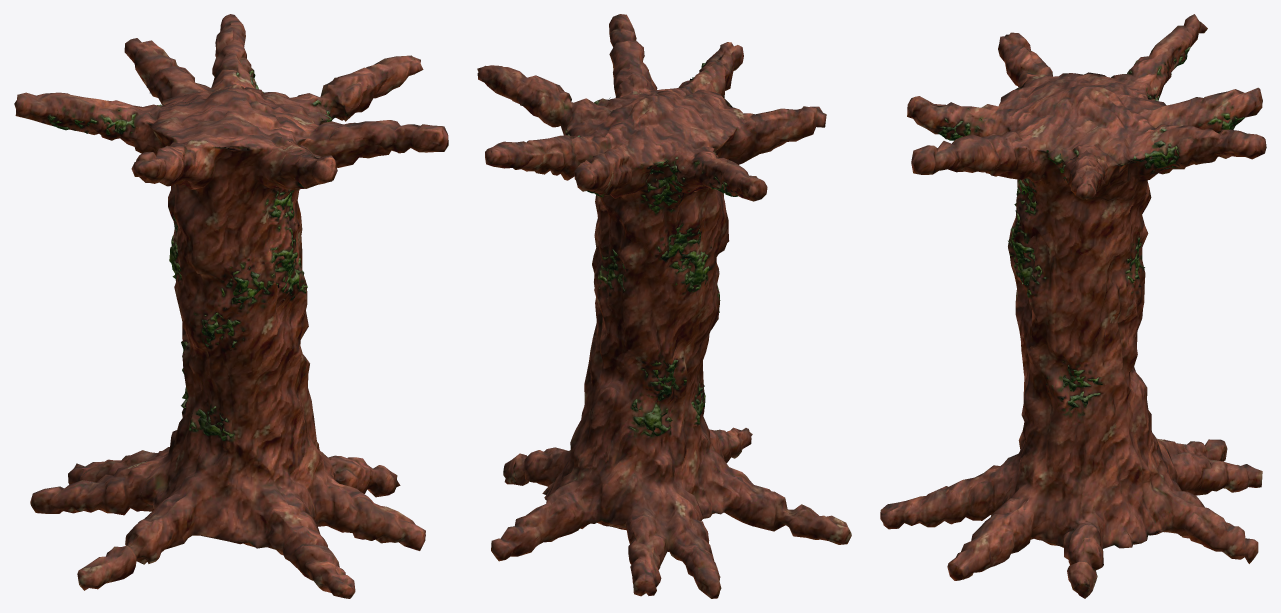
File: rtree_b3.glb
The picture shows the model from 3 angles, left to right: view 1: azimuth 30°, elevation 25°; view 2: azimuth 150°, elevation 25°; view 3: azimuth 270°, elevation 25°; orthographic projection. The views are drawn at different scales.
Parts seen in each view (by area): view 1: bark, moss; view 2: bark, moss; view 3: bark, moss.
Part boxes in pixels (x1,y1,x2,y2): bark: (14,14,448,598); moss: (47,70,346,440); bark: (477,14,851,598); moss: (568,63,738,436); bark: (880,14,1266,598); moss: (936,46,1244,414).
Bounding box in the file's own units: 1.09 × 1.28 × 1.01.
2 materials, 2 textured.
